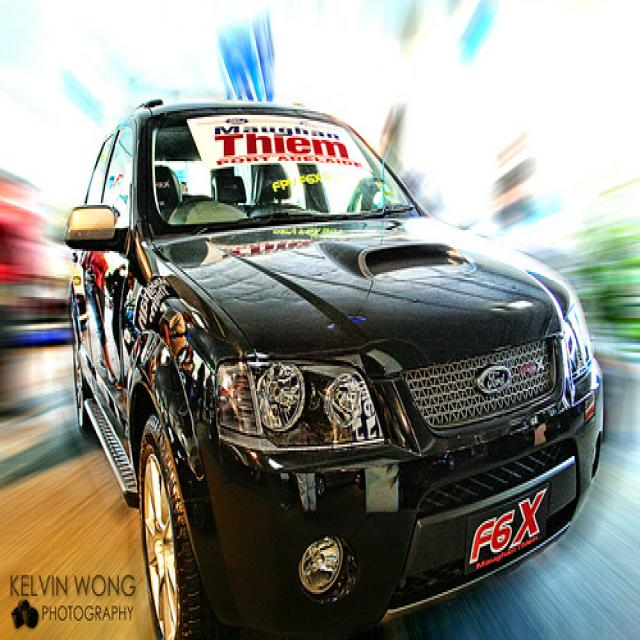Car: (63, 94, 609, 640)
